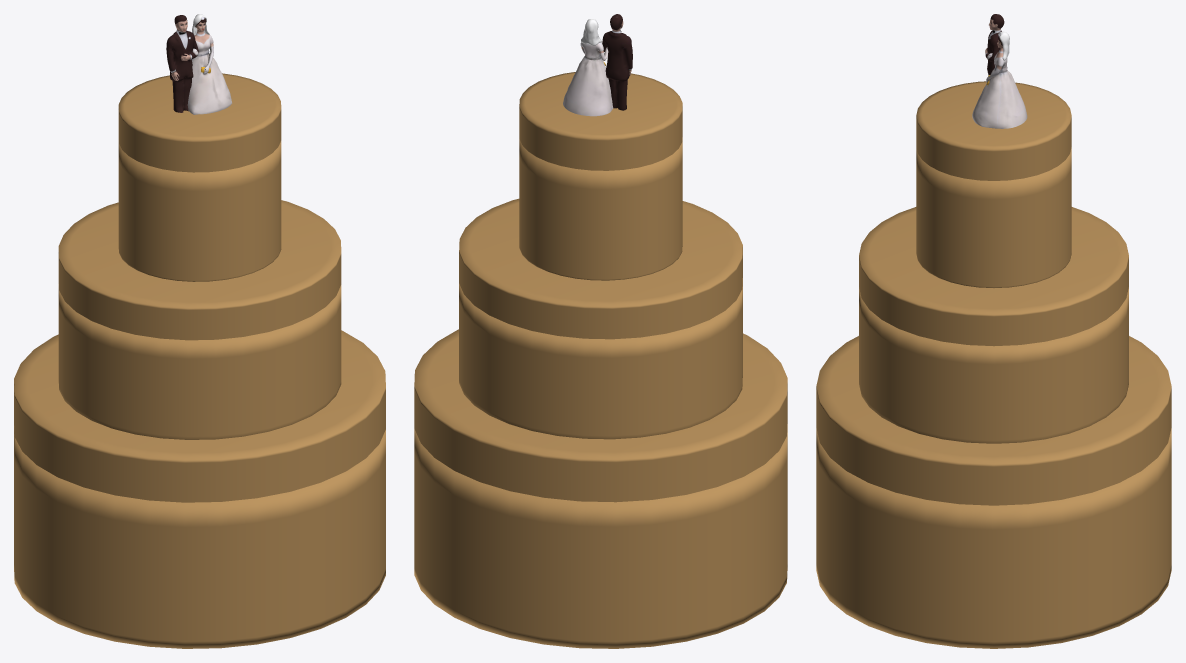
File: 3-tier-caramel-none-bridegroom.glb
The picture shows the model from 3 angles, left to right: view 1: azimuth 30°, elevation 25°; view 2: azimuth 150°, elevation 25°; view 3: azimuth 270°, elevation 25°; orthographic projection. The views are drawn at different scales.
Visible parts, largest first — view 1: Cylinder.022, Cylinder.014, Cylinder.021, 13501_Cake_Topper_Bride_Groom_v1_L1.002; view 2: Cylinder.022, Cylinder.014, Cylinder.021, 13501_Cake_Topper_Bride_Groom_v1_L1.002; view 3: Cylinder.022, Cylinder.014, Cylinder.021, 13501_Cake_Topper_Bride_Groom_v1_L1.002.
Boxes of the visible parts, x1,y1,x2,y2 form: Cylinder.022: [14, 330, 385, 648]; Cylinder.014: [58, 200, 341, 439]; Cylinder.021: [118, 73, 281, 281]; 13501_Cake_Topper_Bride_Groom_v1_L1.002: [166, 14, 232, 114]; Cylinder.022: [414, 329, 787, 648]; Cylinder.014: [459, 198, 742, 439]; Cylinder.021: [519, 72, 682, 280]; 13501_Cake_Topper_Bride_Groom_v1_L1.002: [563, 14, 632, 116]; Cylinder.022: [816, 336, 1171, 648]; Cylinder.014: [859, 207, 1128, 443]; Cylinder.021: [916, 81, 1071, 287]; 13501_Cake_Topper_Bride_Groom_v1_L1.002: [972, 14, 1027, 128].
Bounding box in the file's own units: 4.22 × 6.91 × 4.06.
Materials: 2 (1 with a texture image).
